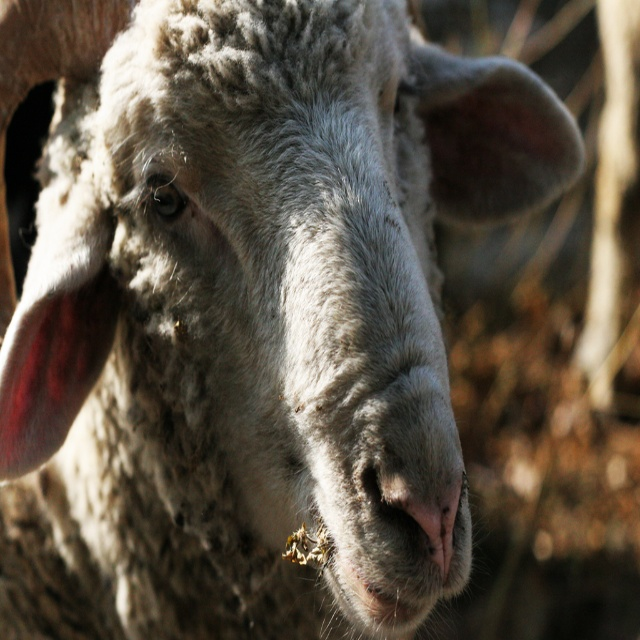Goat: (0, 0, 586, 639)
